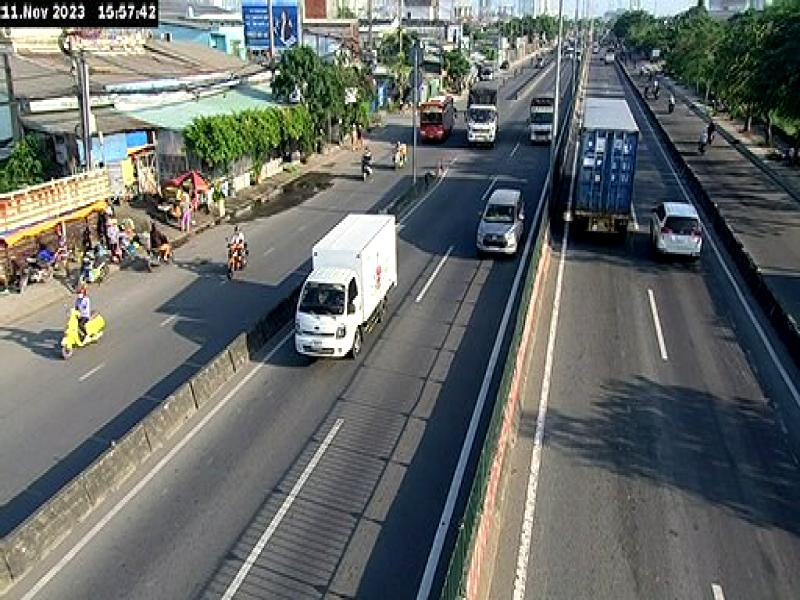bus: (420, 89, 456, 143)
truck: (295, 212, 396, 354), (567, 89, 635, 244), (468, 73, 498, 147)
